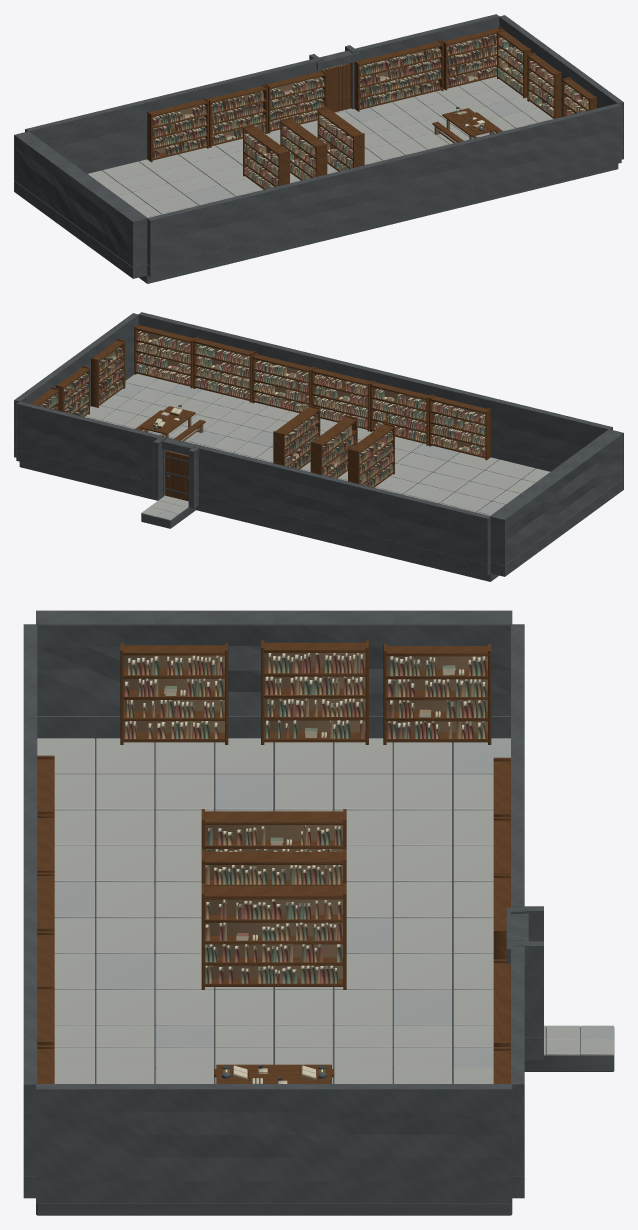
File: retreat_r3_a4.glb
3 views of the same model, one above another, from view 1: azimuth 30°, elevation 25°; view 2: azimuth 150°, elevation 25°; view 3: azimuth 270°, elevation 25° (orthographic). The views are drawn at different scales.
Visible parts, largest first — view 1: North_Wall_Upper.001, CANON_Floor_Library, West_Wall_Upper, South_Wall_West_Upper, North_Wall_Base.001, CANON_South_Bookcase_2, Expanded_South_Bookcase_West, CANON_South_Bookcase_0, CANON_South_Bookcase_1, Expanded_South_Bookcase_East, CANON_Independent_Shelf_1, South_Wall_East_Upper (+11 smaller); view 2: CANON_Floor_Library, South_Wall_West_Upper, North_Wall_Upper.001, West_Wall_Upper, South_Wall_East_Upper, South_Wall_West_Base, CANON_North_Bookcase_0, Expanded_North_Bookcase_4, Expanded_North_Bookcase_5, CANON_North_Bookcase_3, CANON_North_Bookcase_1, CANON_North_Bookcase_2 (+16 smaller); view 3: CANON_Floor_Library, East_Wall_Upper.001, West_Wall_Upper, CANON_Independent_Shelf_3, East_Wall_Base.001, CANON_West_Bookcase_1, Expanded_West_Bookcase_North, CANON_West_Bookcase_0, North_Wall_Upper.001, CANON_Independent_Shelf_1, CANON_Independent_Shelf_2, South_Wall_West_Upper (+15 smaller).
Part boxes in pixels (box(x1,y1,x2,y2)): North_Wall_Upper.001: box(147, 103, 621, 266); CANON_Floor_Library: box(88, 76, 618, 283); West_Wall_Upper: box(14, 131, 147, 267); South_Wall_West_Upper: box(25, 57, 322, 165); North_Wall_Base.001: box(147, 151, 621, 277); CANON_South_Bookcase_2: box(354, 40, 443, 111); Expanded_South_Bookcase_West: box(147, 97, 208, 162); CANON_South_Bookcase_0: box(206, 84, 267, 147); CANON_South_Bookcase_1: box(265, 69, 326, 133); Expanded_South_Bookcase_East: box(441, 26, 502, 90); CANON_Independent_Shelf_1: box(243, 124, 289, 189); South_Wall_East_Upper: box(349, 14, 499, 97); CANON_Floor_Library: box(19, 373, 549, 581); South_Wall_West_Upper: box(193, 444, 490, 564); North_Wall_Upper.001: box(138, 312, 612, 463); West_Wall_Upper: box(490, 429, 623, 565); South_Wall_East_Upper: box(16, 401, 166, 485); South_Wall_West_Base: box(198, 494, 490, 575); CANON_North_Bookcase_0: box(429, 394, 490, 460); Expanded_North_Bookcase_4: box(193, 337, 255, 402); Expanded_North_Bookcase_5: box(134, 323, 195, 388); CANON_North_Bookcase_3: box(252, 353, 314, 413); CANON_North_Bookcase_1: box(370, 381, 431, 445); CANON_North_Bookcase_2: box(311, 366, 372, 431); CANON_Floor_Library: box(36, 738, 512, 1215); East_Wall_Upper.001: box(36, 1084, 512, 1180); West_Wall_Upper: box(36, 610, 512, 716); CANON_Independent_Shelf_3: box(201, 883, 346, 989); East_Wall_Base.001: box(36, 1181, 512, 1203); CANON_West_Bookcase_1: box(261, 640, 368, 744); Expanded_West_Bookcase_North: box(120, 643, 228, 744); CANON_West_Bookcase_0: box(383, 643, 491, 744); North_Wall_Upper.001: box(23, 624, 37, 1175); CANON_Independent_Shelf_1: box(201, 809, 346, 851); CANON_Independent_Shelf_2: box(201, 849, 346, 885); South_Wall_West_Upper: box(511, 624, 524, 913).
Bounding box in the file's own units: 24.99 × 3.2 × 13.02.
Materials: 12 (2 with a texture image).
